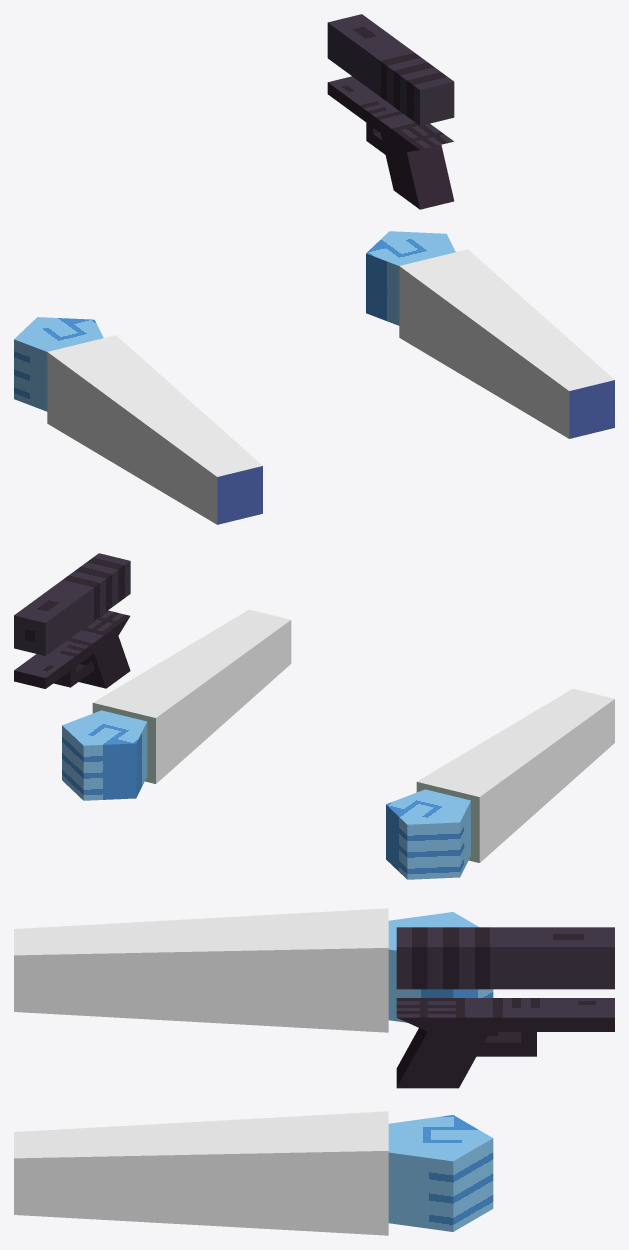
Rendered from handsimple.gltf.
The picture shows the model from 3 angles, top to bottom: view 1: azimuth 30°, elevation 25°; view 2: azimuth 150°, elevation 25°; view 3: azimuth 270°, elevation 25°; orthographic projection. The views are drawn at different scales.
Visible parts, largest first — view 1: arm_right, arm_left, mesh (×2); view 2: arm_right, arm_left, mesh (×2); view 3: arm_right, arm_left, mesh (×2).
Boxes of the visible parts, left/top/right/bottom form: arm_right: left=366, top=231, right=614, bottom=438; arm_left: left=14, top=317, right=262, bottom=524; mesh (×2): left=327, top=14, right=454, bottom=209; arm_right: left=62, top=609, right=291, bottom=800; arm_left: left=386, top=688, right=614, bottom=879; mesh (×2): left=14, top=553, right=130, bottom=688; arm_right: left=14, top=1111, right=493, bottom=1235; arm_left: left=14, top=908, right=493, bottom=1032; mesh (×2): left=396, top=927, right=614, bottom=1088.
Size of the model in its own units: 2.36 by 1.25 by 2.41.
4 materials, 4 textured.
